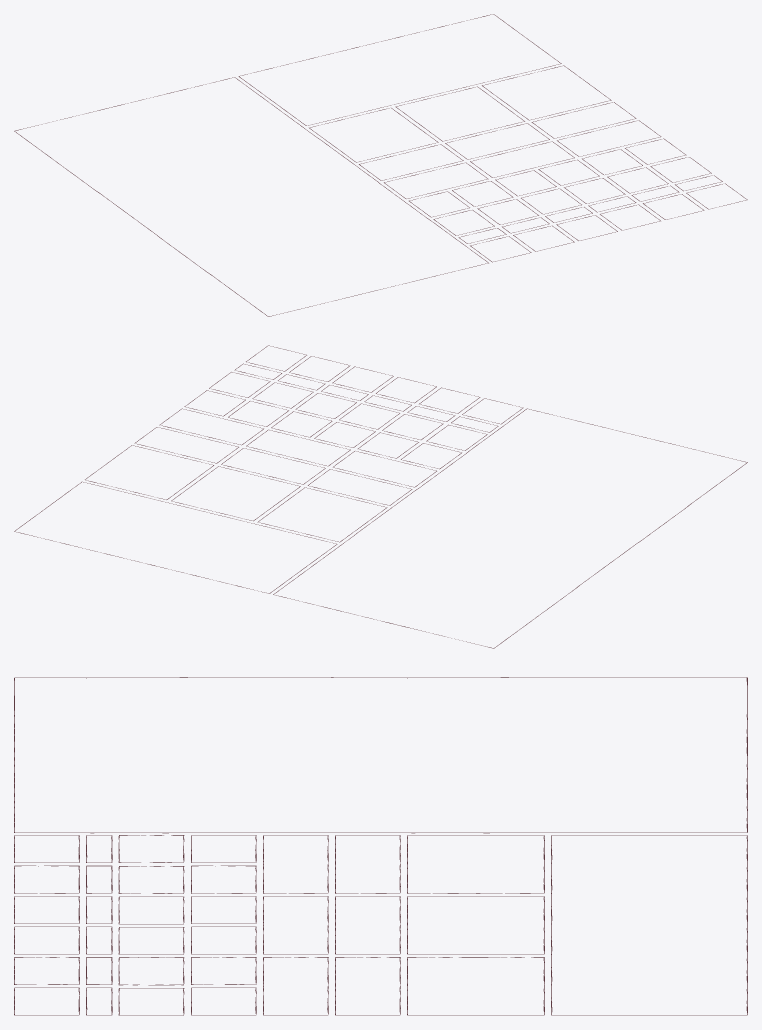
The model's file is ground-lines.fbx.
The picture shows the model from 3 angles, top to bottom: view 1: azimuth 30°, elevation 25°; view 2: azimuth 150°, elevation 25°; view 3: azimuth 270°, elevation 25°; orthographic projection. The views are drawn at different scales.
Visible parts, largest first — view 1: ground-lines; view 2: ground-lines; view 3: ground-lines.
Boxes of the visible parts, x1,y1,x2,y2 form: ground-lines: (14, 14, 747, 316); ground-lines: (14, 345, 747, 648); ground-lines: (14, 677, 747, 1015).
Bounding box in the file's own units: 611 × 0 × 560.
